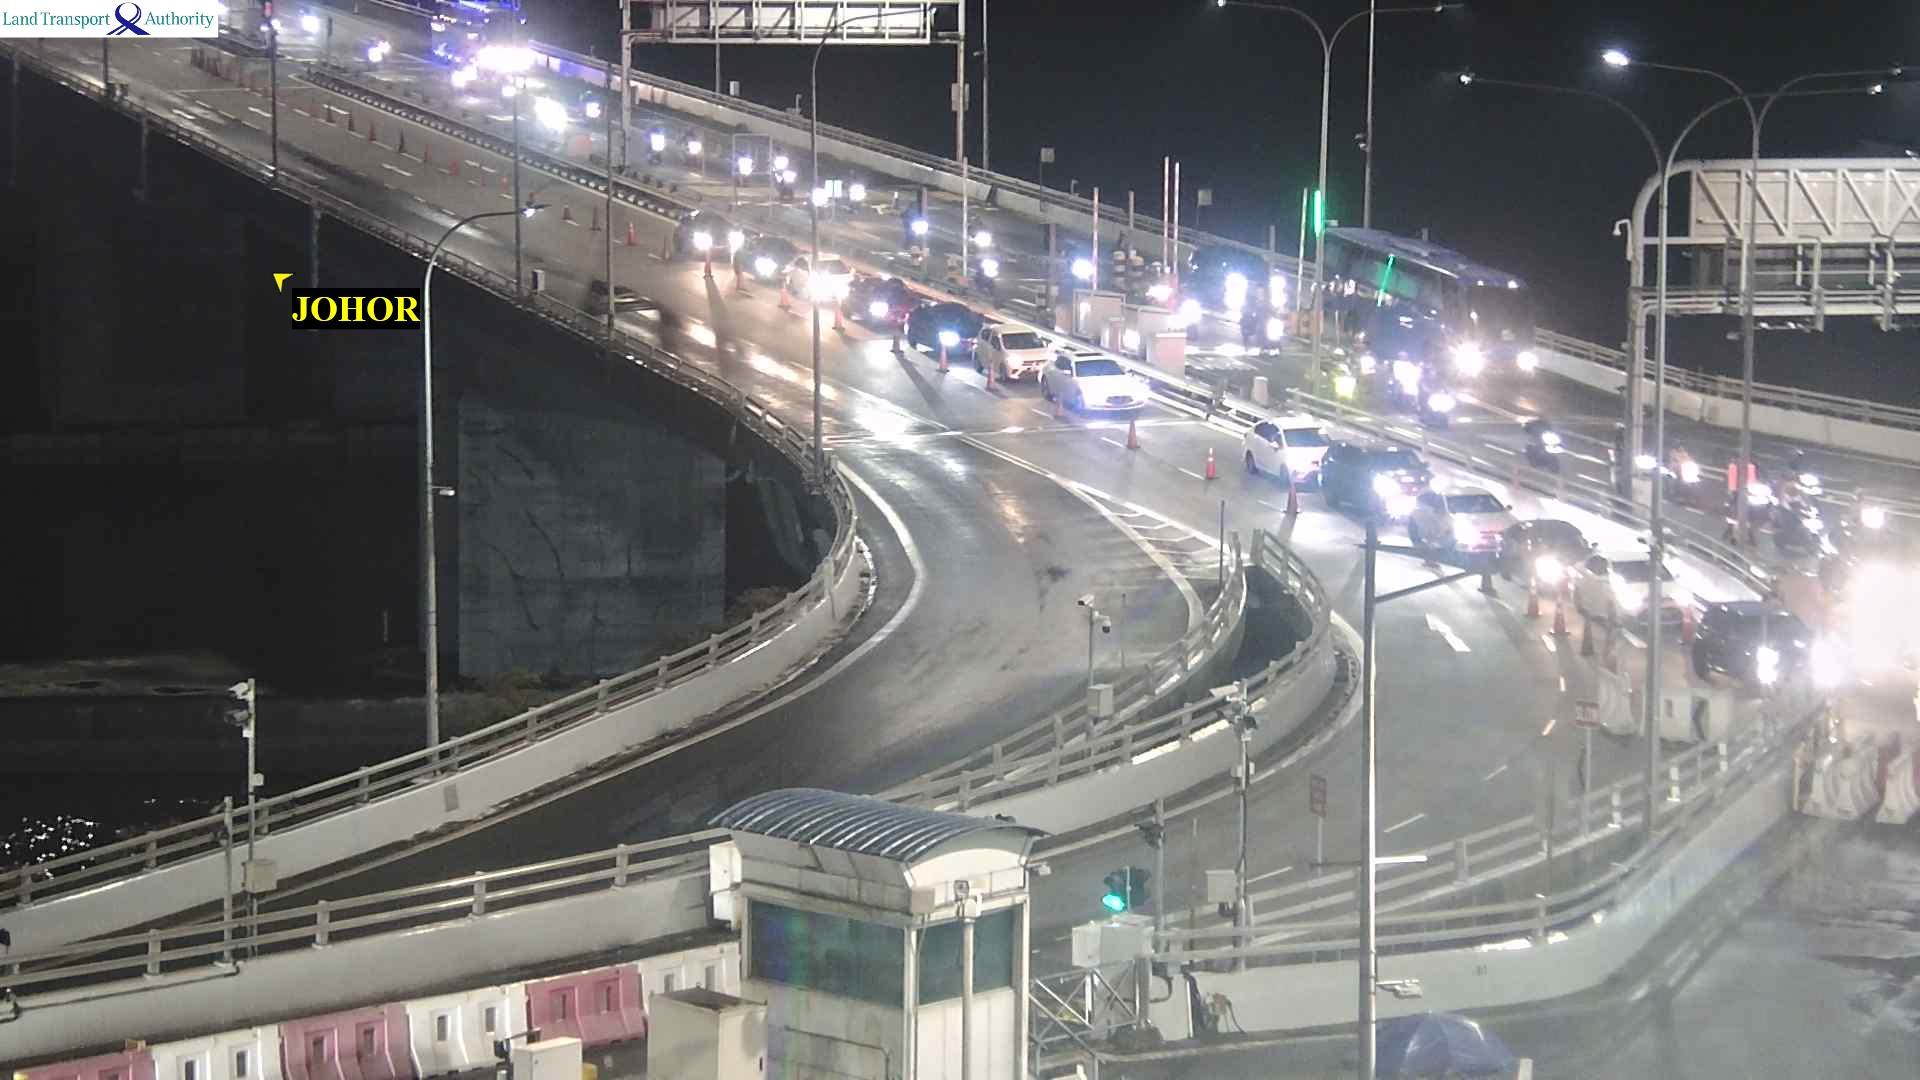vehicle-secondlink-singapore: (1328, 229, 1535, 384), (1695, 604, 1817, 687), (1575, 551, 1691, 634), (1320, 444, 1435, 522), (433, 0, 524, 79), (1477, 520, 1596, 579), (1770, 451, 1834, 551), (1044, 349, 1147, 411), (1244, 422, 1336, 491), (1408, 496, 1516, 553), (1188, 244, 1282, 309), (967, 327, 1044, 375), (1724, 458, 1768, 539), (840, 281, 916, 326), (679, 206, 741, 258), (786, 256, 860, 299), (735, 237, 802, 276), (924, 303, 982, 347), (1527, 411, 1563, 468), (1419, 373, 1453, 427), (1394, 352, 1424, 405), (1668, 444, 1700, 493), (1063, 251, 1097, 287), (901, 214, 934, 243), (645, 123, 666, 165), (825, 181, 865, 202), (576, 91, 600, 120), (969, 224, 993, 252), (804, 186, 828, 214), (980, 257, 1000, 286), (684, 132, 700, 167), (774, 170, 802, 190), (733, 156, 753, 182), (771, 150, 789, 174), (368, 42, 380, 66), (378, 38, 390, 55)
